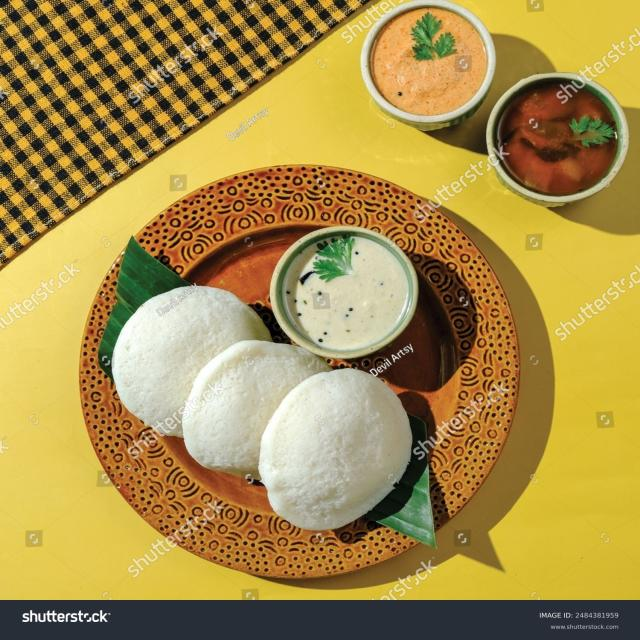IDLI: (259, 369, 412, 530), (111, 286, 271, 437), (181, 340, 331, 479), (218, 398, 227, 407)
